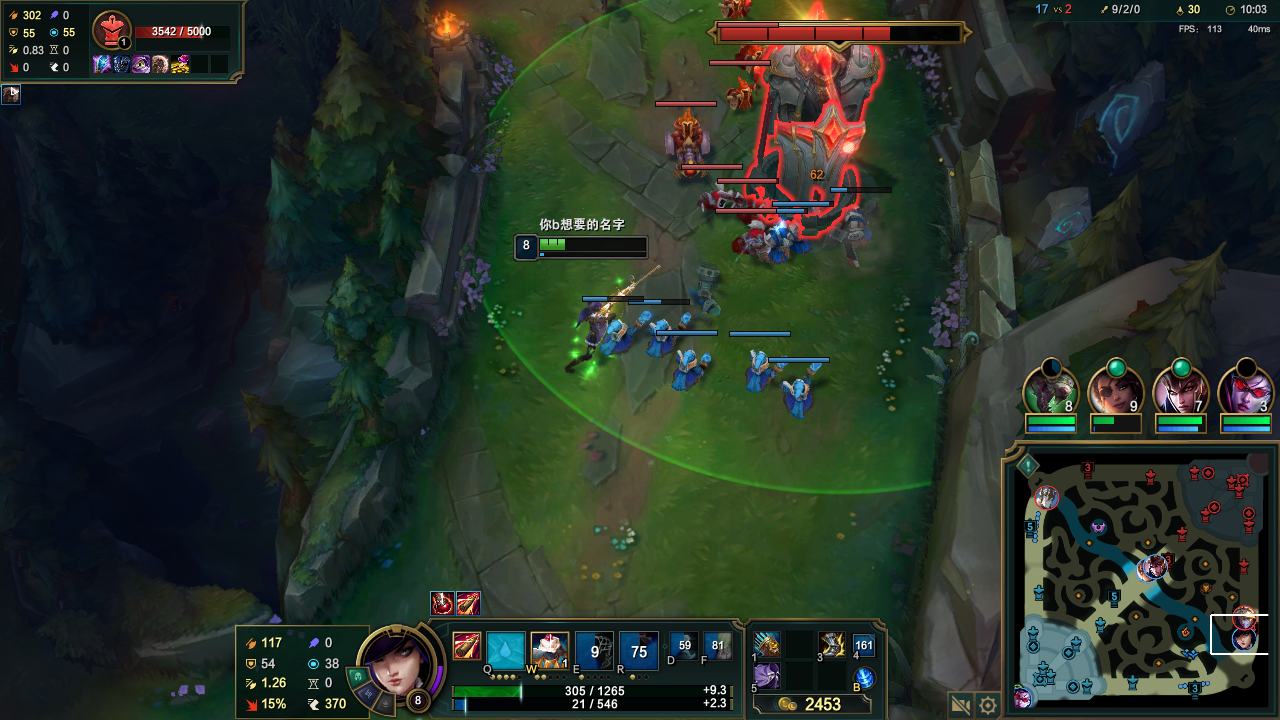DFFYT: (718, 29, 887, 233)
DFXB: (665, 114, 706, 175), (695, 182, 736, 211), (746, 196, 782, 222), (725, 78, 748, 107), (736, 225, 761, 250), (741, 45, 762, 65), (723, 4, 751, 17)
WFXB: (669, 351, 719, 389), (781, 374, 816, 412), (746, 346, 777, 388), (772, 220, 803, 254), (840, 212, 868, 244), (609, 320, 634, 354), (760, 233, 788, 261), (648, 319, 672, 348)
